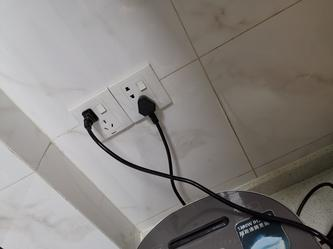switch: (96, 102, 107, 114), (136, 80, 147, 91)
